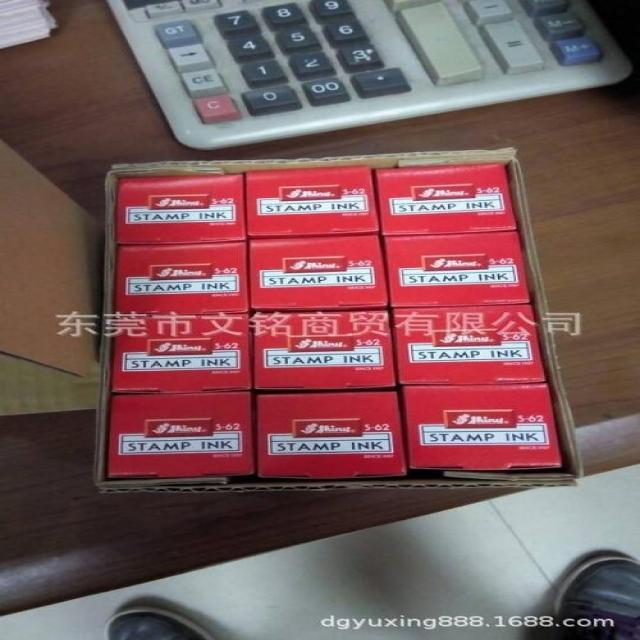box: (95, 147, 588, 493), (0, 138, 98, 415), (100, 390, 255, 477), (402, 385, 562, 467), (258, 386, 405, 475), (248, 307, 398, 390), (389, 305, 547, 383), (383, 230, 535, 307), (109, 311, 253, 392), (247, 232, 387, 310), (239, 168, 383, 240), (373, 162, 519, 233), (115, 237, 245, 316), (116, 173, 247, 244)
